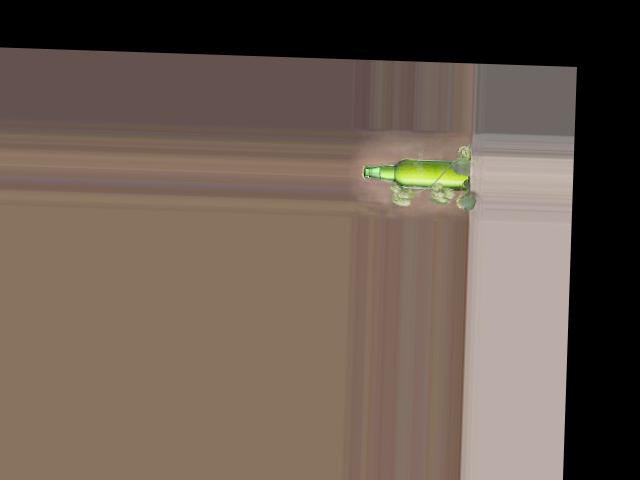beer: (360, 156, 472, 189)
